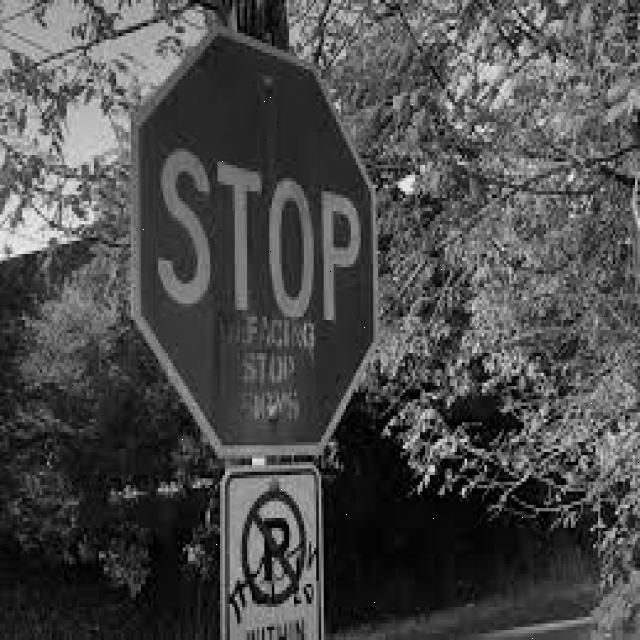stop sign: (124, 30, 374, 457)
